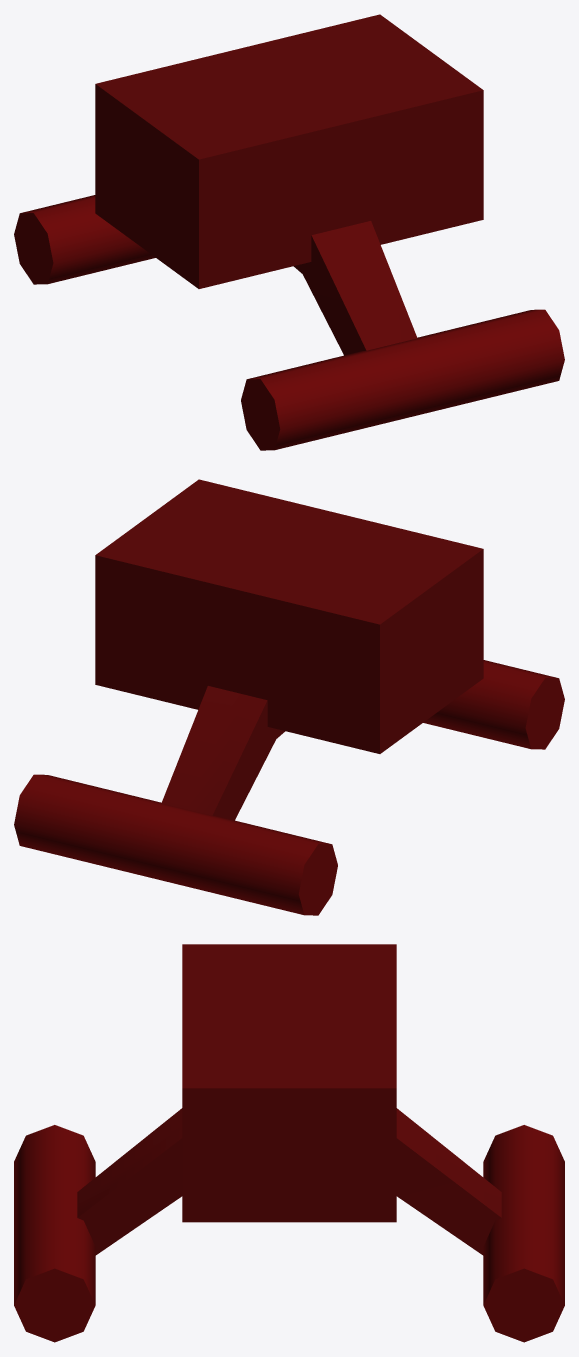
The model's file is inverted.obj.
3 views of the same model, one above another, from view 1: azimuth 30°, elevation 25°; view 2: azimuth 150°, elevation 25°; view 3: azimuth 270°, elevation 25° (orthographic). The views are drawn at different scales.
Size of the model in its own units: 1.1 by 0.9075 by 1.78.
